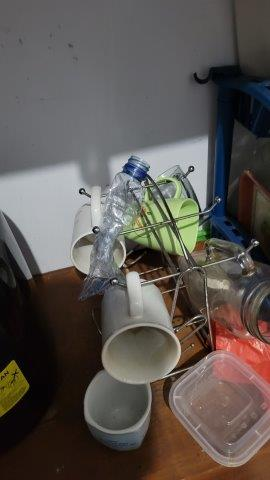botolplastik: (84, 156, 150, 294)
